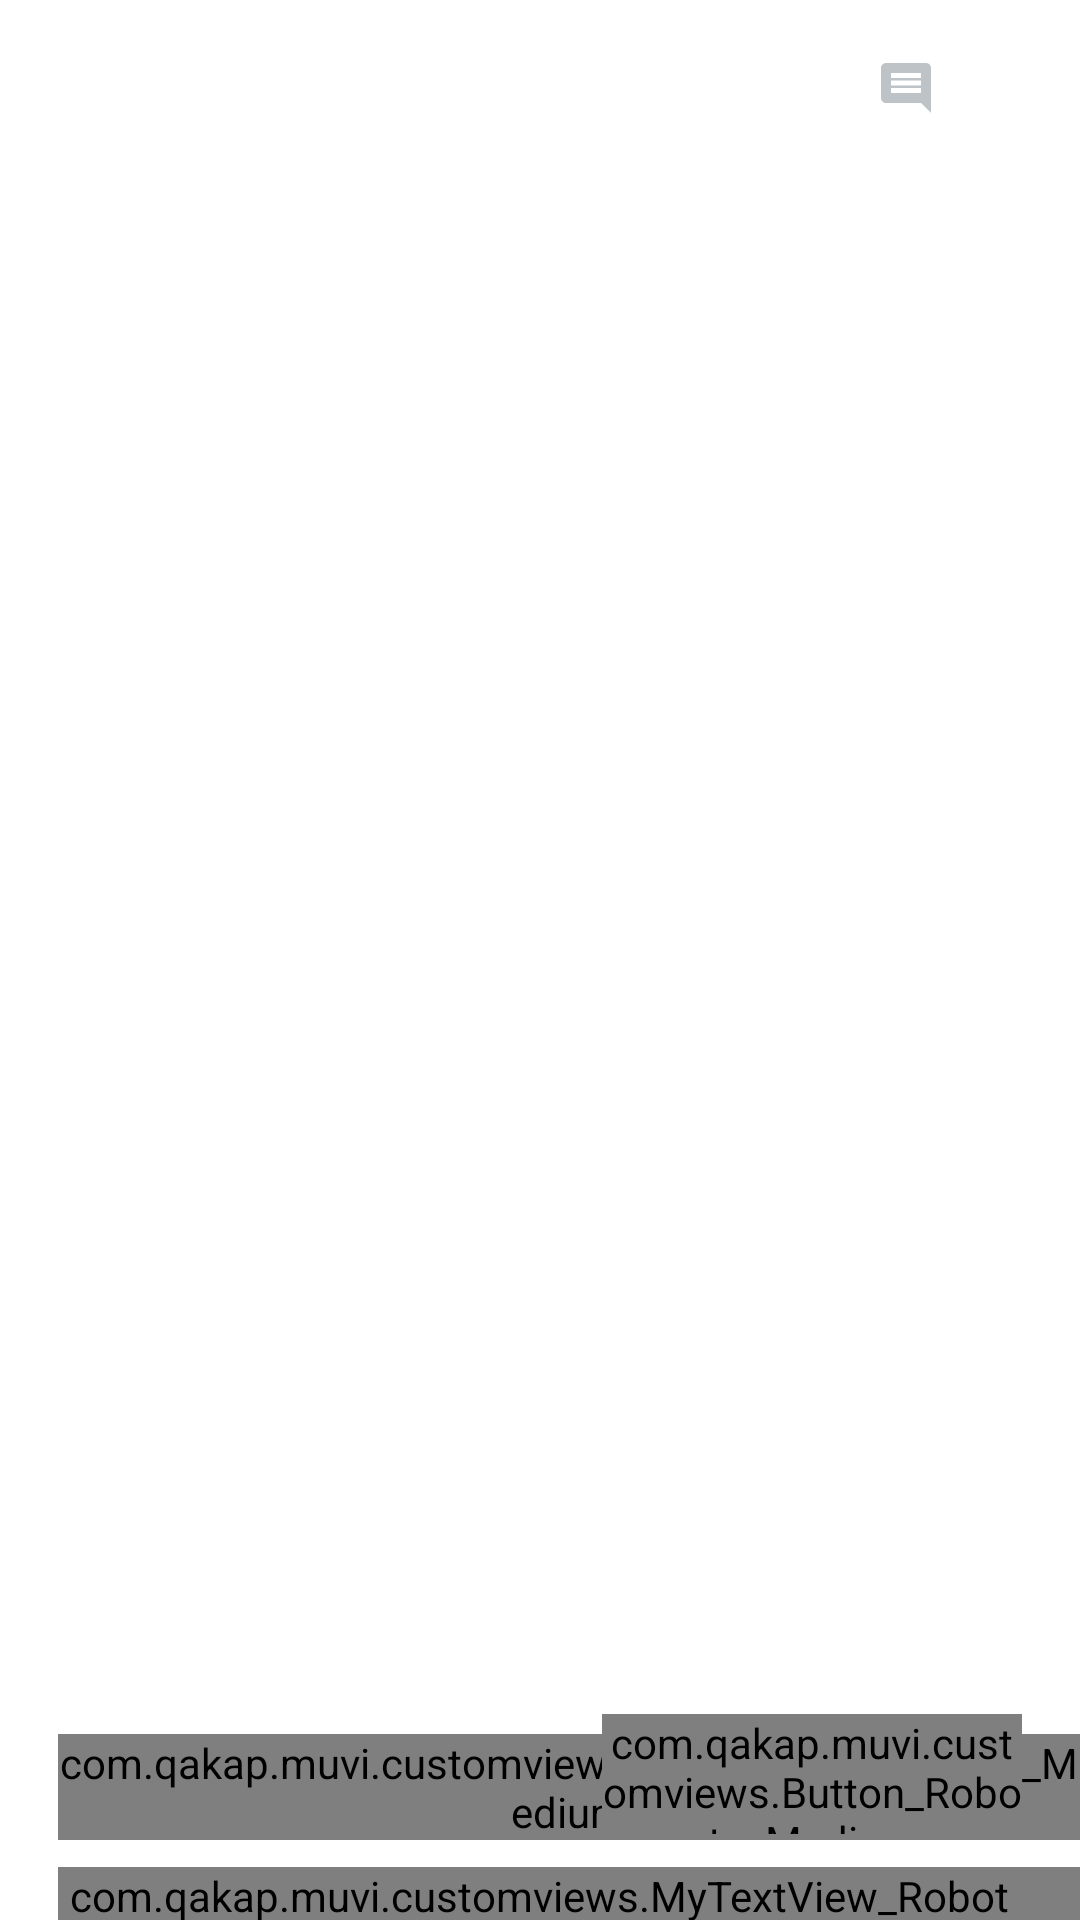

Screen size 1080x1920. Icon name, then its box in pixels as (x1, y1, x2, y2):
comment: (881, 63, 931, 113)
